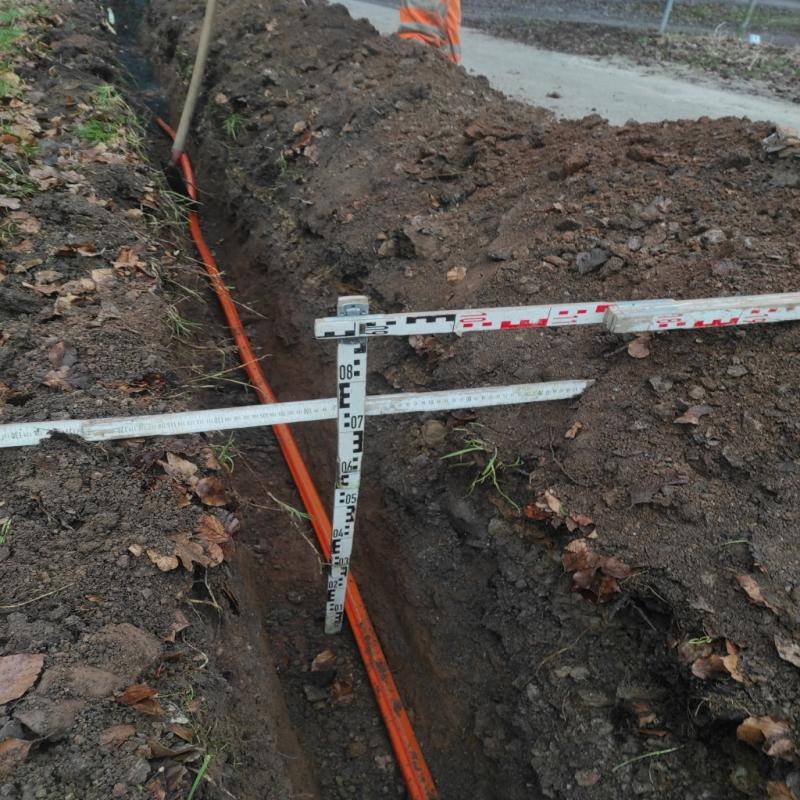Orang-Speednetrohrchen: (193, 235, 433, 799)
